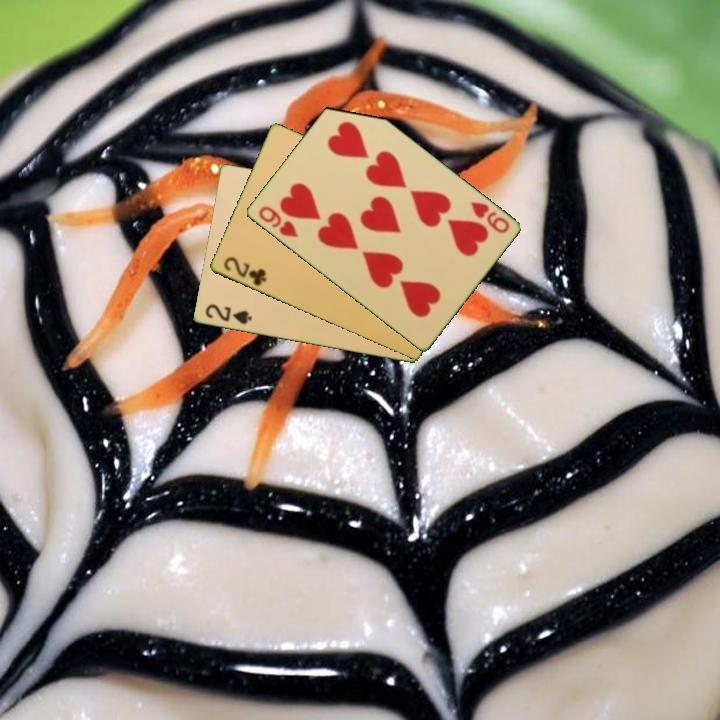2c: (220, 253, 269, 289)
2s: (202, 301, 254, 327)
9h: (466, 198, 512, 236), (255, 202, 300, 240)
